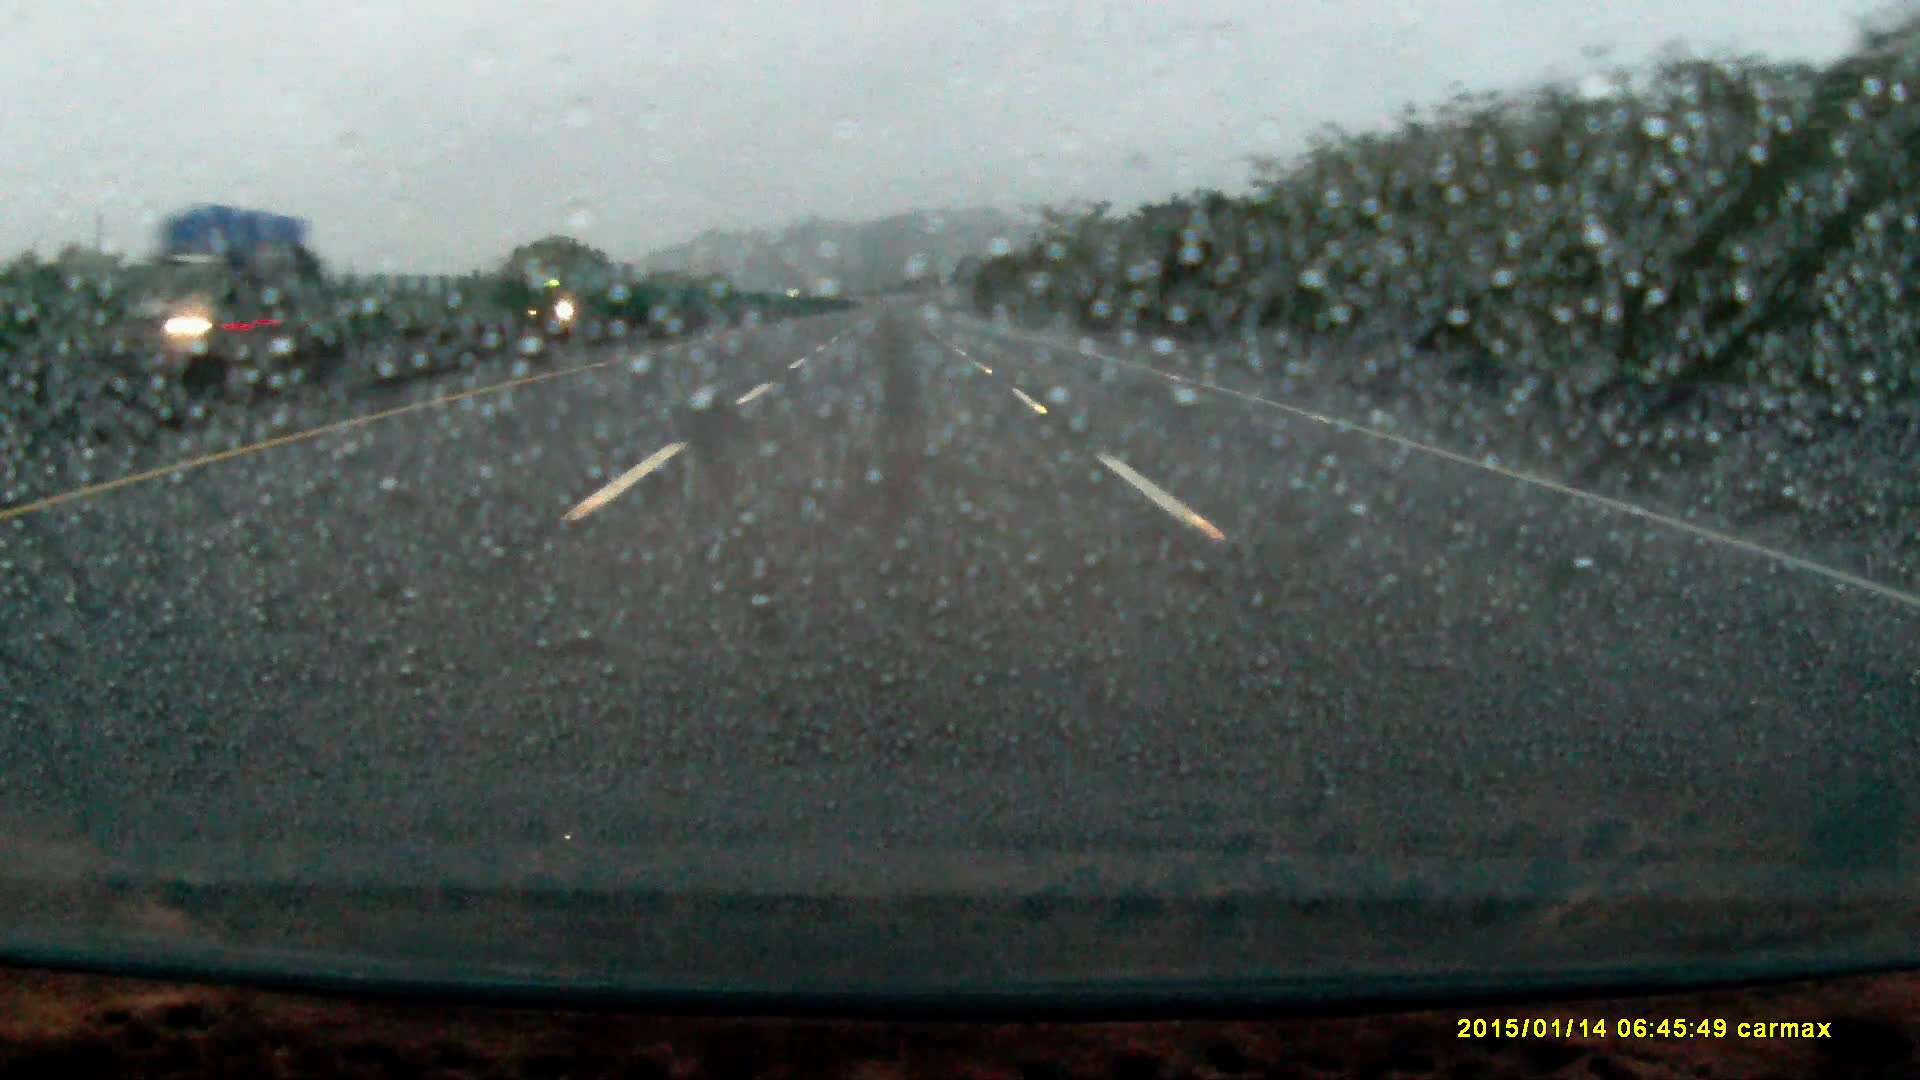vehicle: (121, 203, 318, 369), (525, 264, 618, 330)
